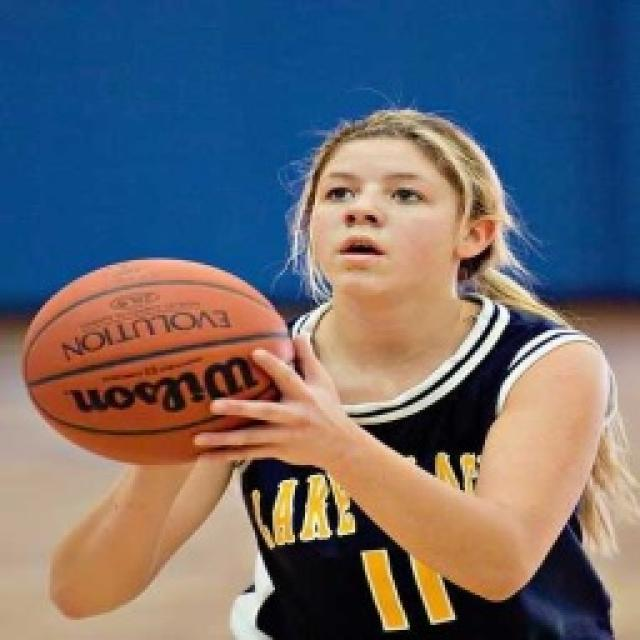rim: (15, 250, 297, 475)
